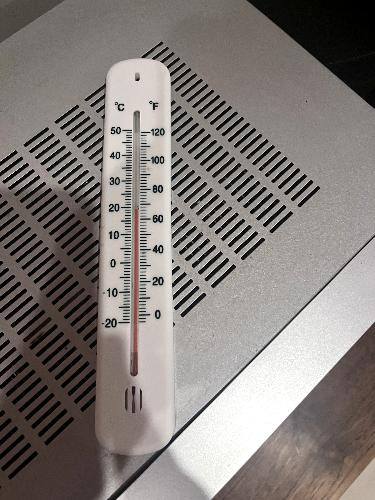thermo: (88, 60, 177, 457)
